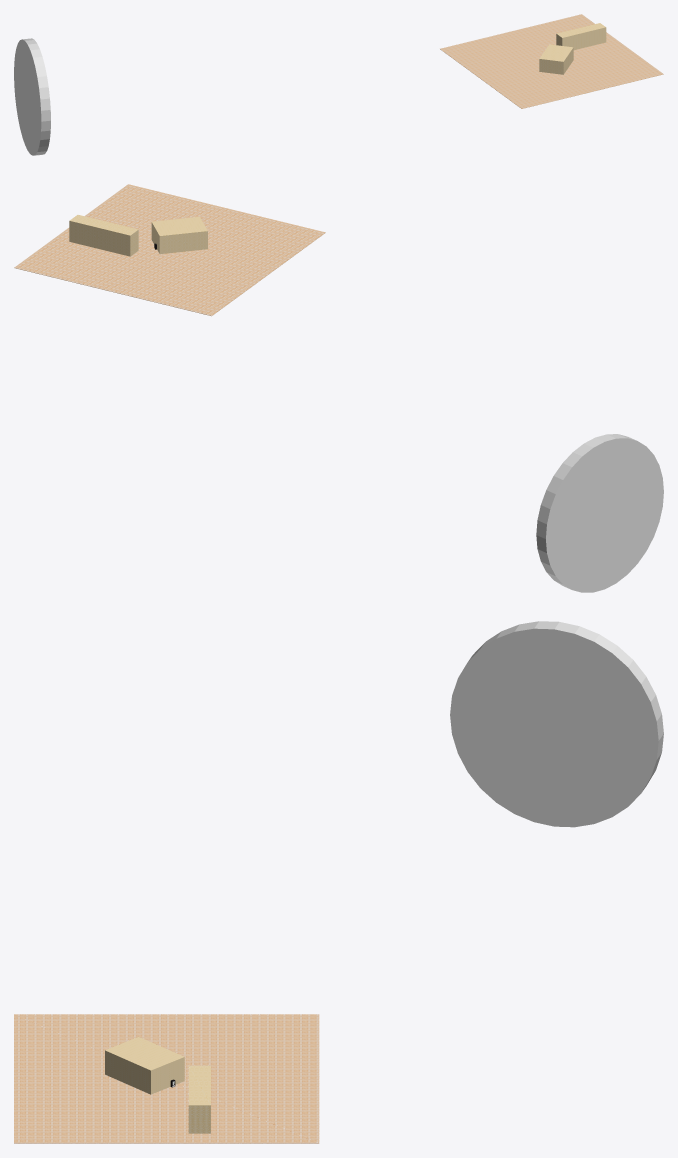
The picture shows the model from 3 angles, top to bottom: view 1: azimuth 30°, elevation 25°; view 2: azimuth 150°, elevation 25°; view 3: azimuth 270°, elevation 25°; orthographic projection. The views are drawn at different scales.
Parts seen in each view (by area): view 1: ground, Circle.008, Cube.001, Cube.002; view 2: ground, Circle.008, Cube.001, Cube.002; view 3: ground, Circle.008, Cube.002, Cube.001.
Boxes of the visible parts, box(x1,y1,x2,y2) form: ground: box(440, 14, 663, 108); Circle.008: box(14, 38, 50, 155); Cube.001: box(556, 23, 606, 50); Cube.002: box(539, 44, 573, 74); ground: box(14, 184, 325, 316); Circle.008: box(536, 434, 663, 592); Cube.001: box(69, 215, 138, 256); Cube.002: box(151, 216, 207, 254); ground: box(14, 1014, 319, 1143); Circle.008: box(450, 621, 663, 827); Cube.002: box(105, 1037, 184, 1094); Cube.001: box(188, 1065, 210, 1133).
Bounding box in the file's own units: 653 × 131 × 392.
Materials: 9 (9 with a texture image).
